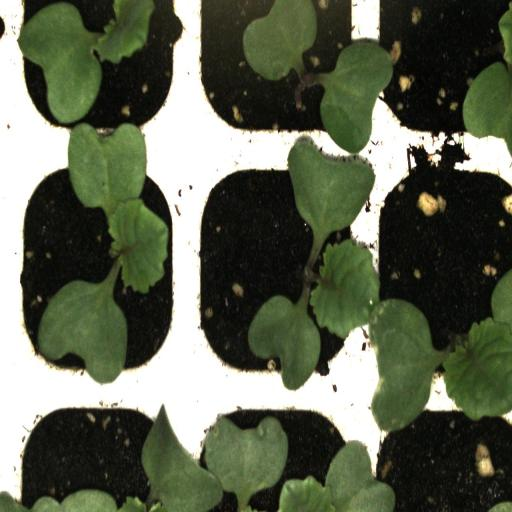Folha: (0, 414, 395, 512), (462, 8, 512, 151)
Germinacao: (10, 145, 187, 388), (186, 147, 362, 387), (371, 154, 512, 395), (185, 2, 369, 161), (6, 0, 188, 153)
